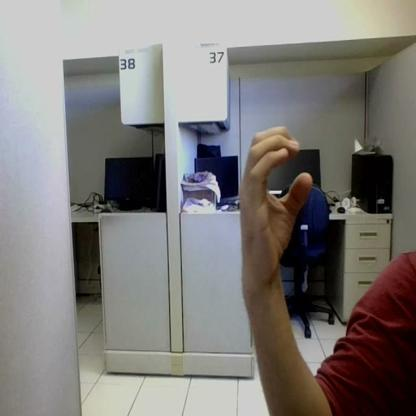C: (239, 126, 311, 279)
